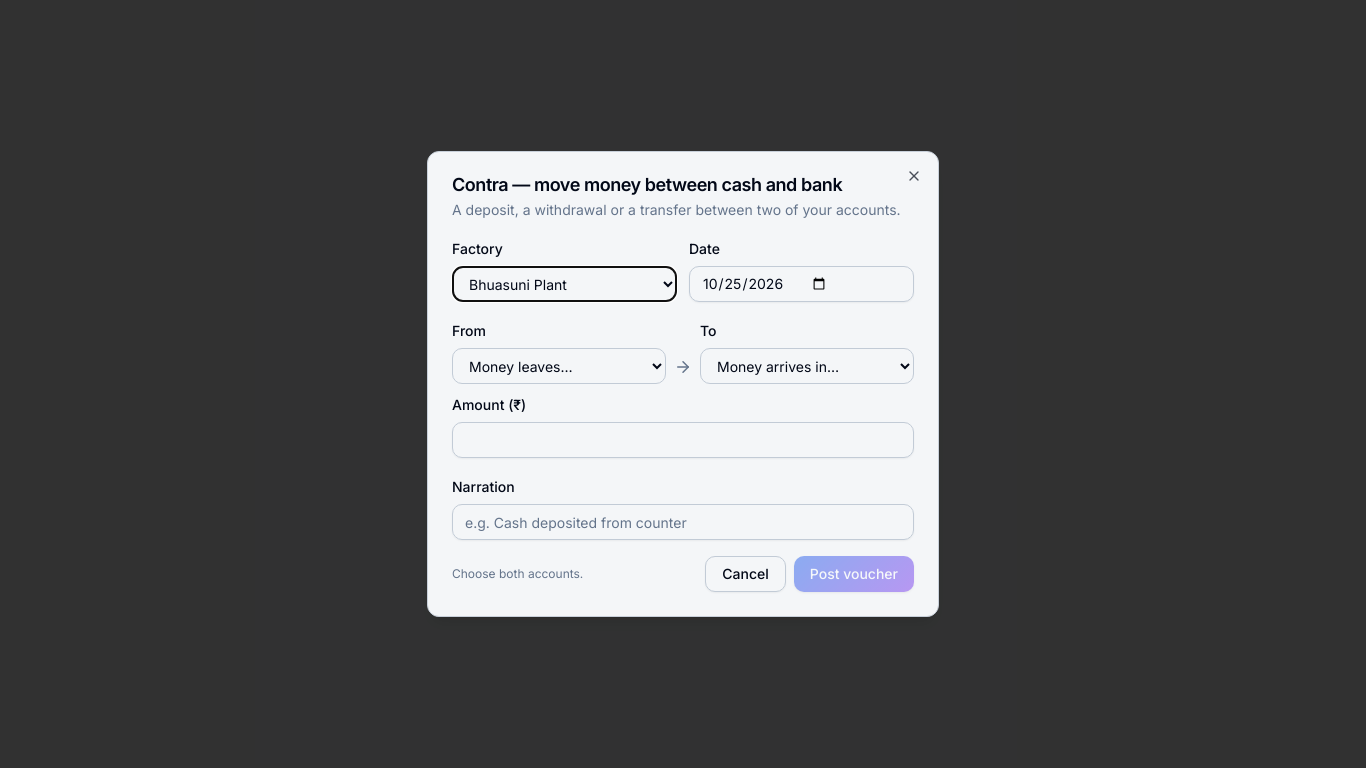
Test: Journal voucher › shows the server refusal instead of closing
Expected: the dropdown labelled "Factory" shows "Bhuasuni Plant", [452,266,677,302]
Select "Cash-in-Hand (cash)" in the dropdown labelled "From": point(559, 366) [452,348,666,384]
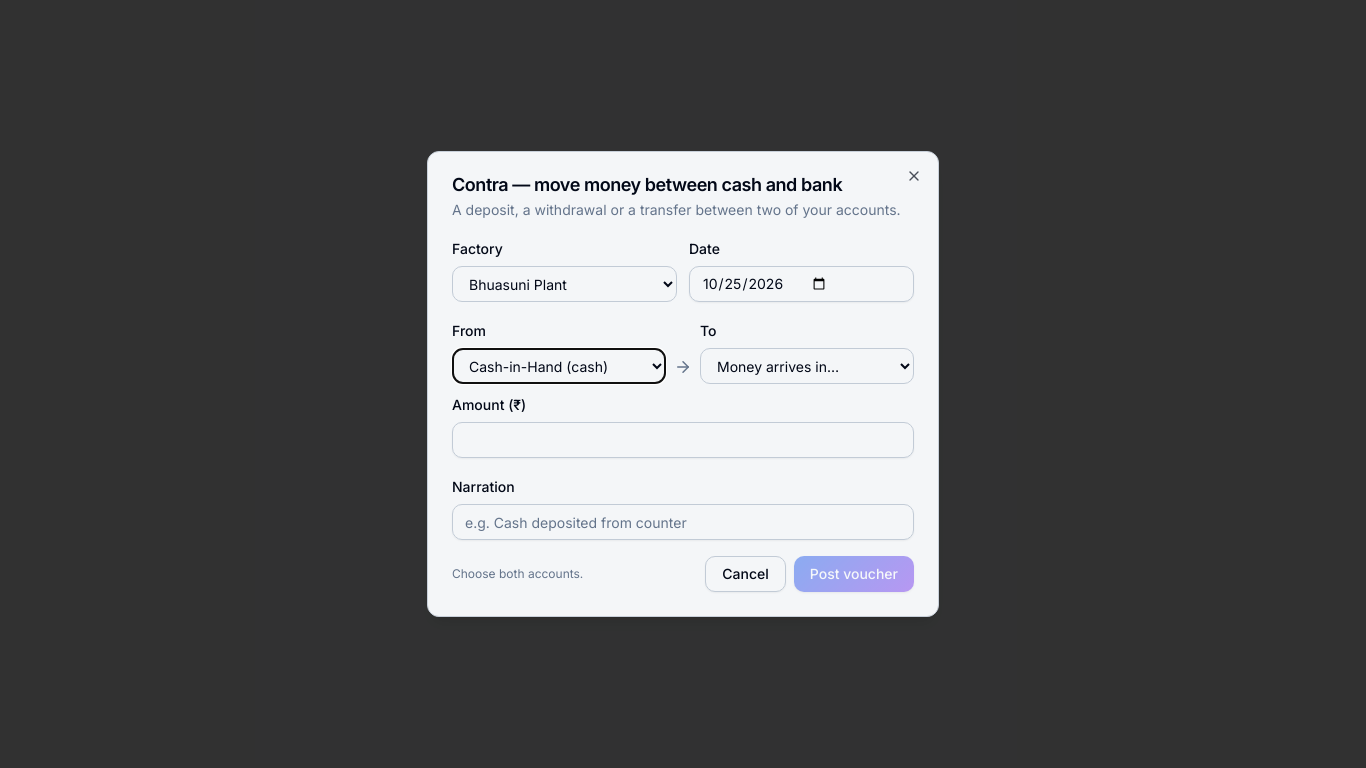
Select "HDFC Current A/c" in the dropdown labelled "To": point(807, 366) [700,348,914,384]
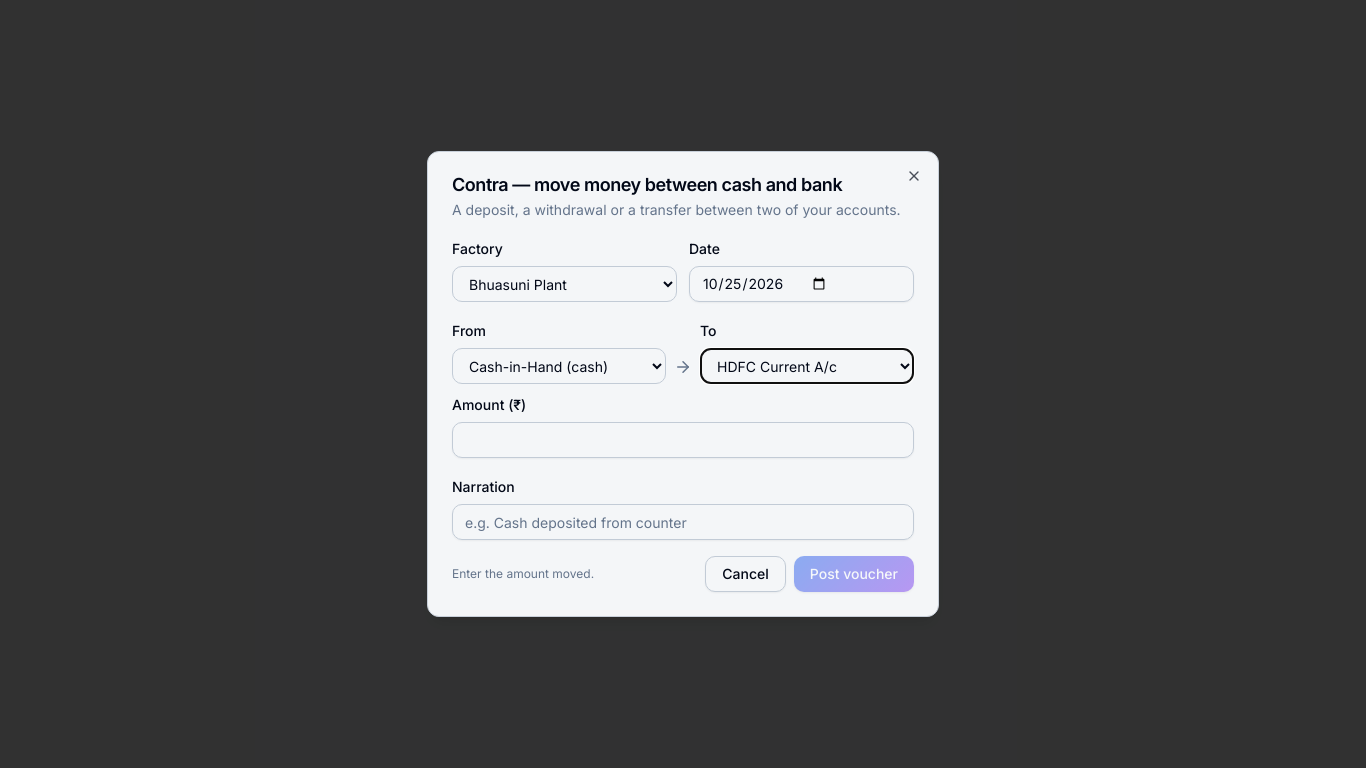
In the number field labelled "Amount (₹)": point(683, 440) [452,422,914,458], type "999999"
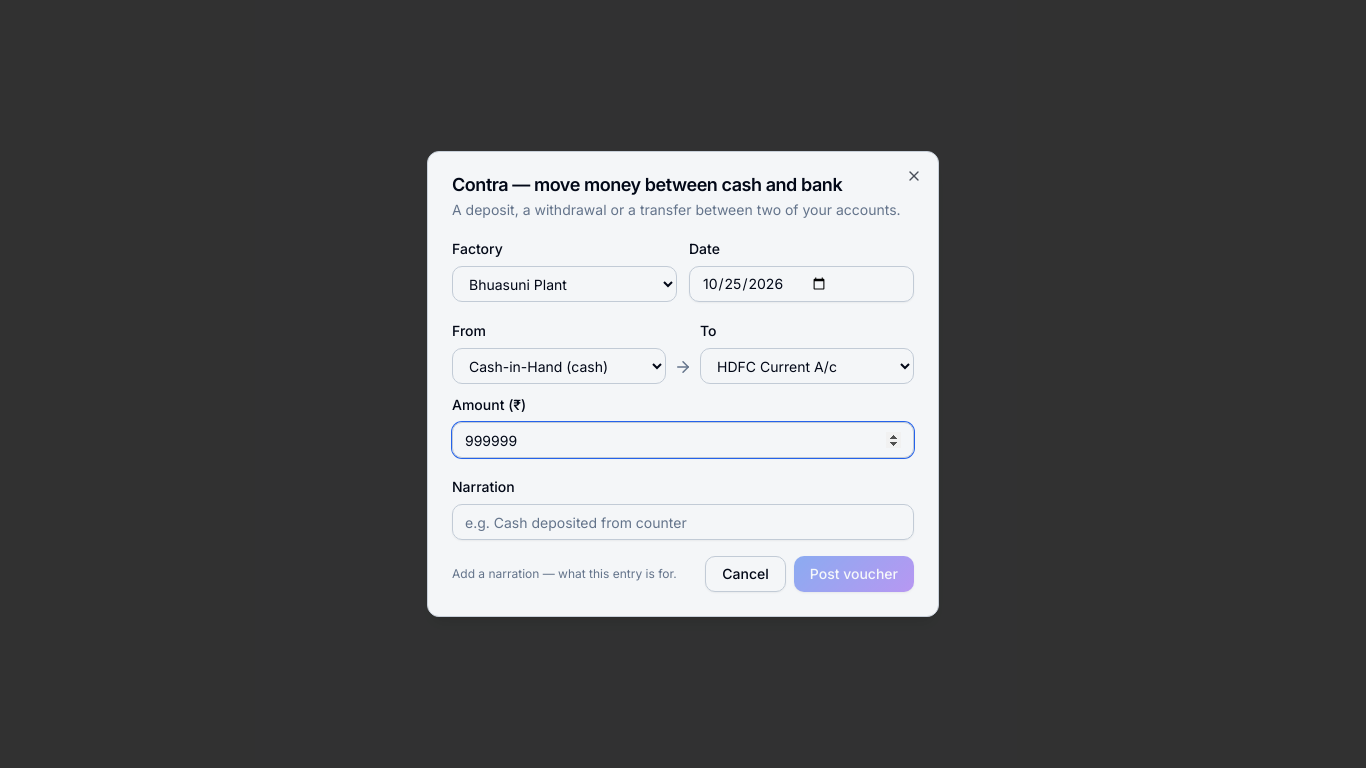
In the field labelled "Narration": point(683, 522) [452,504,914,540], type "Deposit"
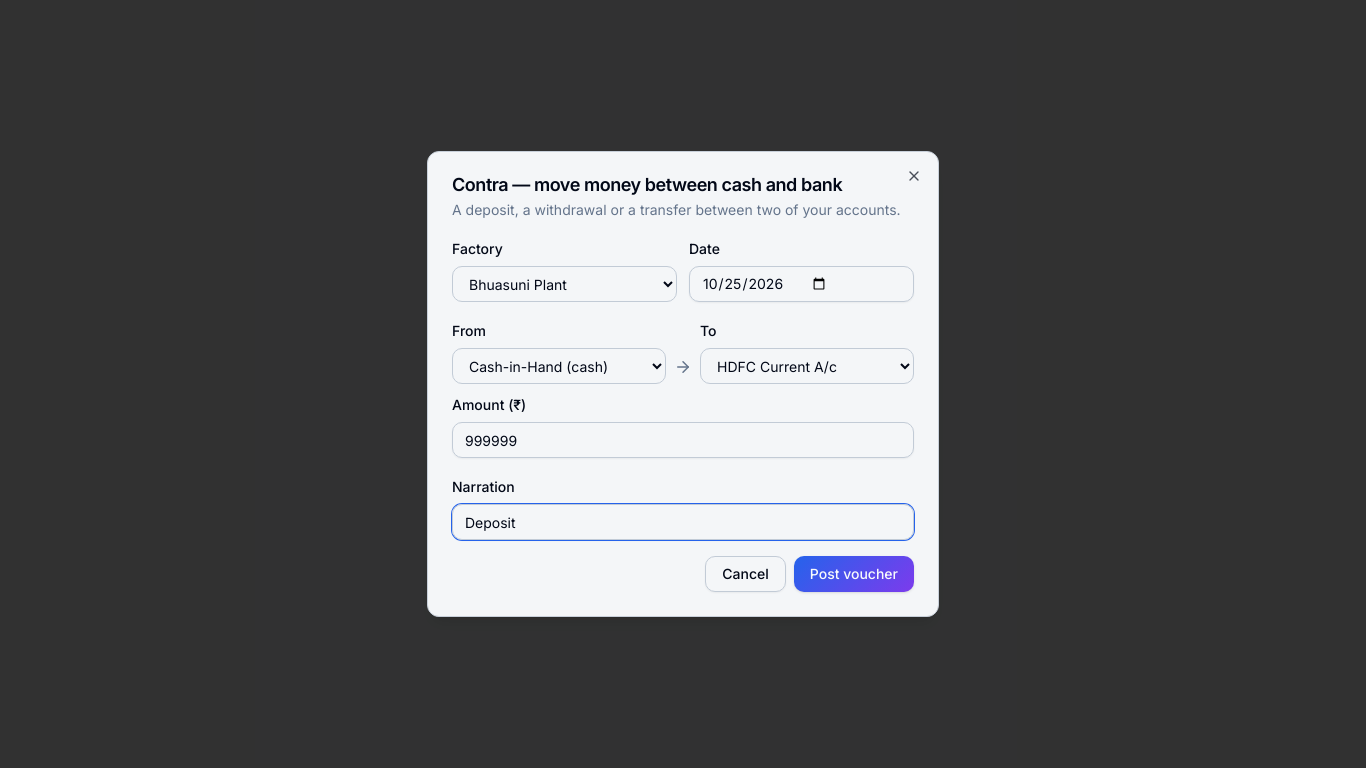
Click the button "Post voucher": point(854, 574) [794,556,914,592]
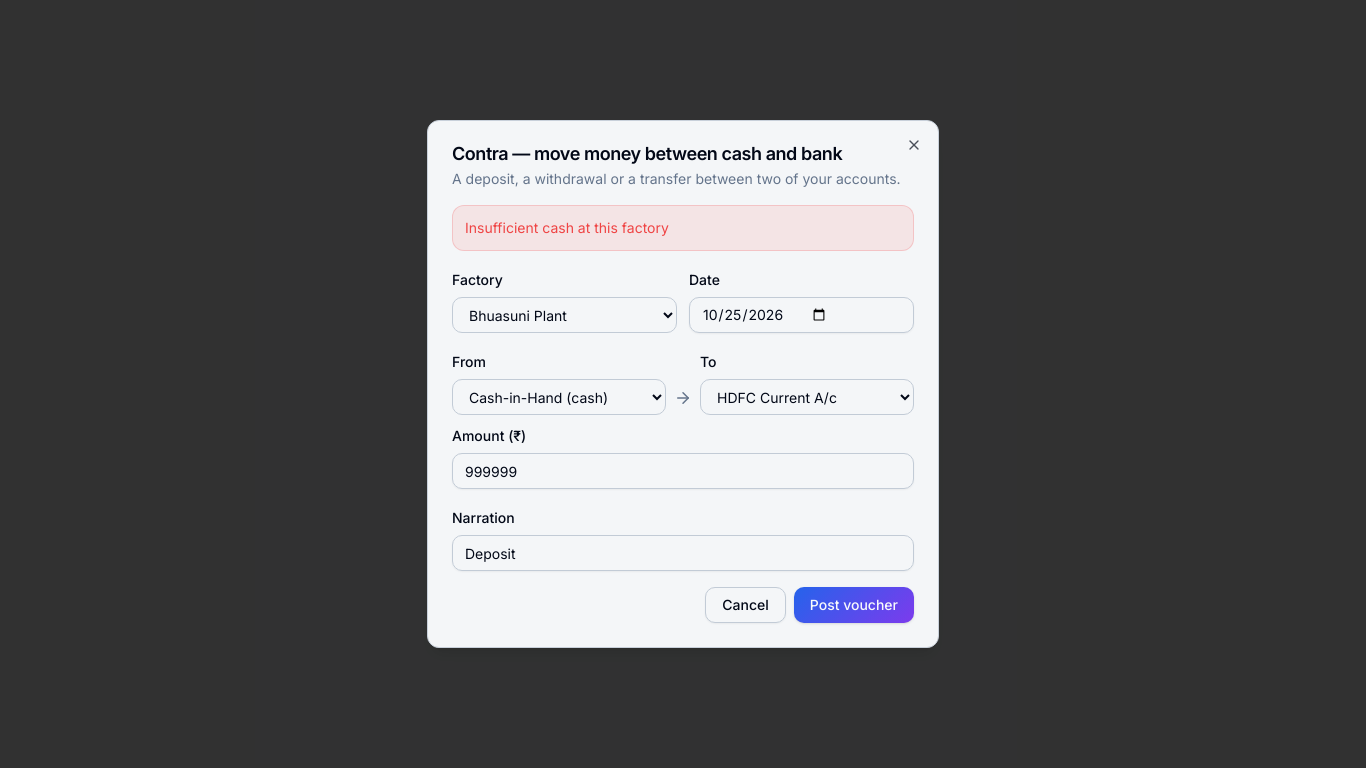
Now the message reads "Insufficient cash at this factory", box [465,219,669,236]
